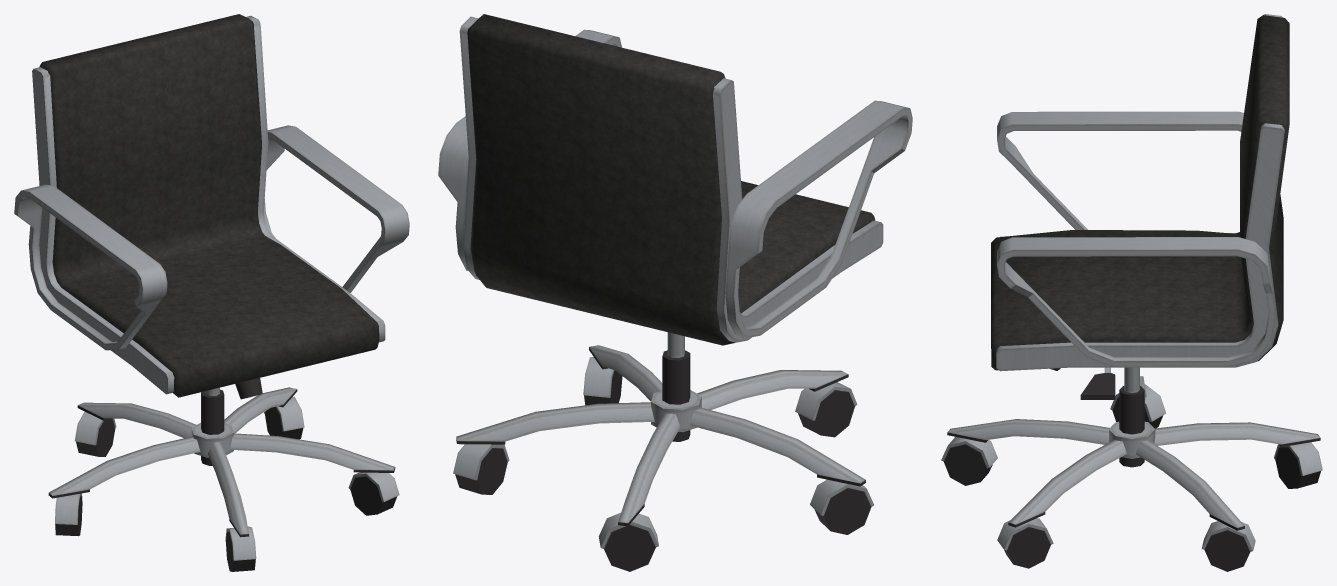
File: off-chair5.glb
The picture shows the model from 3 angles, left to right: view 1: azimuth 30°, elevation 25°; view 2: azimuth 150°, elevation 25°; view 3: azimuth 270°, elevation 25°; orthographic projection. The views are drawn at different scales.
Visible parts, largest first — view 1: OfficeChair_Modern; view 2: OfficeChair_Modern; view 3: OfficeChair_Modern.
Part boxes in pixels (left/top/right/bottom): OfficeChair_Modern: left=14, top=14, right=409, bottom=571; OfficeChair_Modern: left=438, top=14, right=912, bottom=571; OfficeChair_Modern: left=941, top=14, right=1322, bottom=571.
Size of the model in its own units: 0.7204 by 0.9662 by 0.7597.
1 material, 1 textured.
